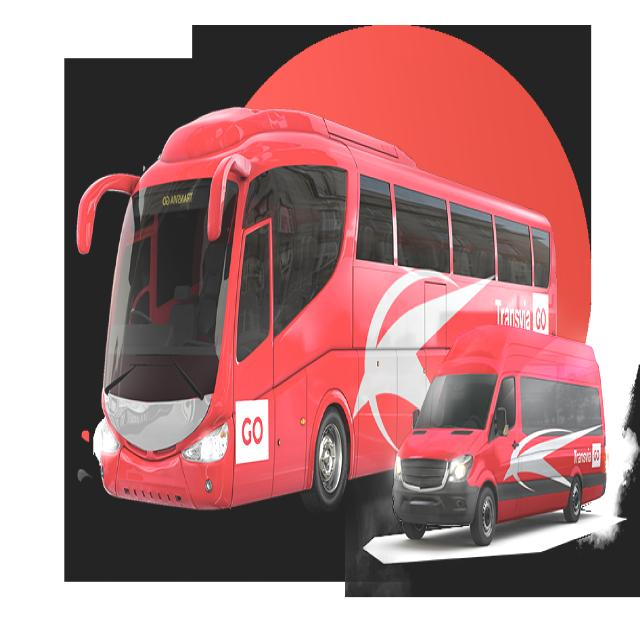BUS: (89, 107, 564, 513), (398, 325, 612, 541)
